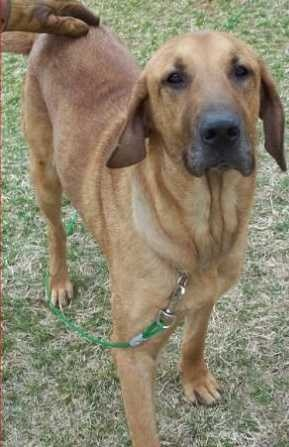Dog: (23, 26, 287, 418)
